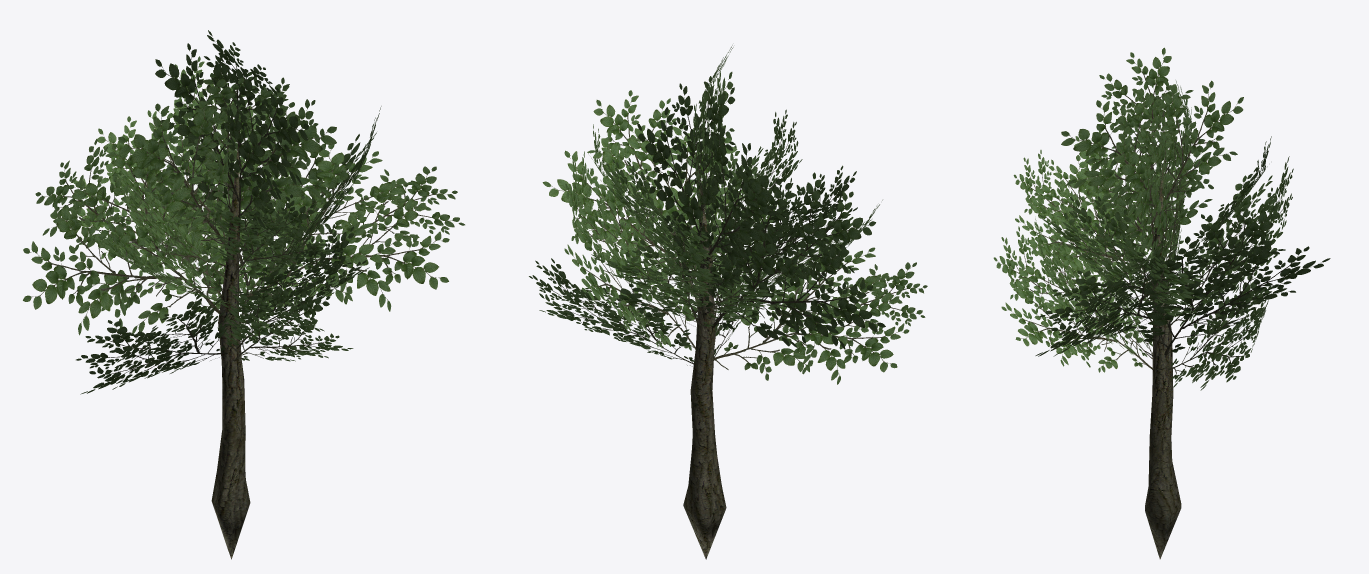
The model's file is Sun_0015_Large_tree_3.fbx.
3 renders of one model, left to right at view 1: azimuth 30°, elevation 25°; view 2: azimuth 150°, elevation 25°; view 3: azimuth 270°, elevation 25°, orthographic. The views are drawn at different scales.
Parts seen in each view (by area): view 1: Sun_0015_Large_tree_3; view 2: Sun_0015_Large_tree_3; view 3: Sun_0015_Large_tree_3.
Part boxes in pixels (<box>): Sun_0015_Large_tree_3: <box>23,30,464,559</box>; Sun_0015_Large_tree_3: <box>529,45,927,559</box>; Sun_0015_Large_tree_3: <box>993,47,1330,559</box>.
Size of the model in its own units: 362 by 487 by 308.
